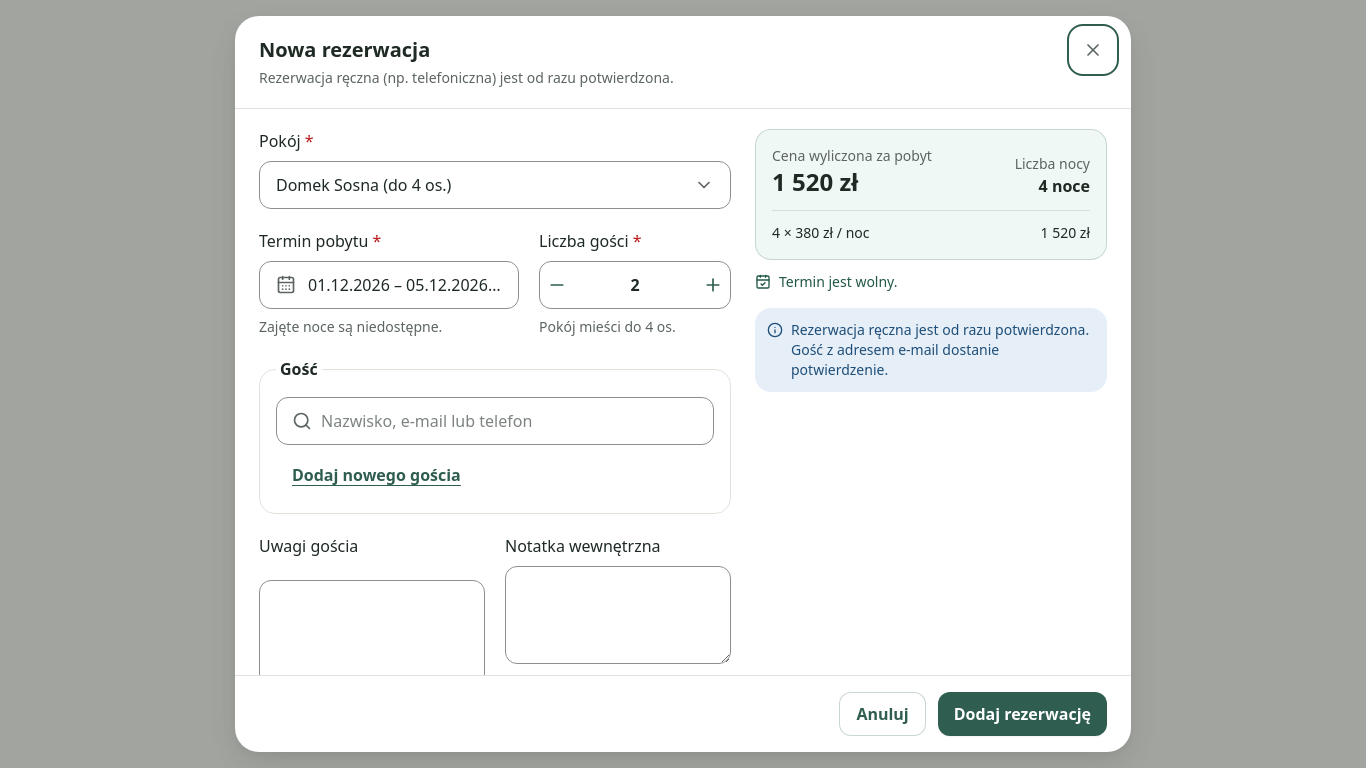
ManualReservationDialog (O5) › requires a guest and validates the new guest e-mail
expect the element "Cena wyliczona" is shown: met, box [755,129,1107,260]
Click the button "Dodaj rezerwację" at (1022, 714), box [938,692,1107,736]
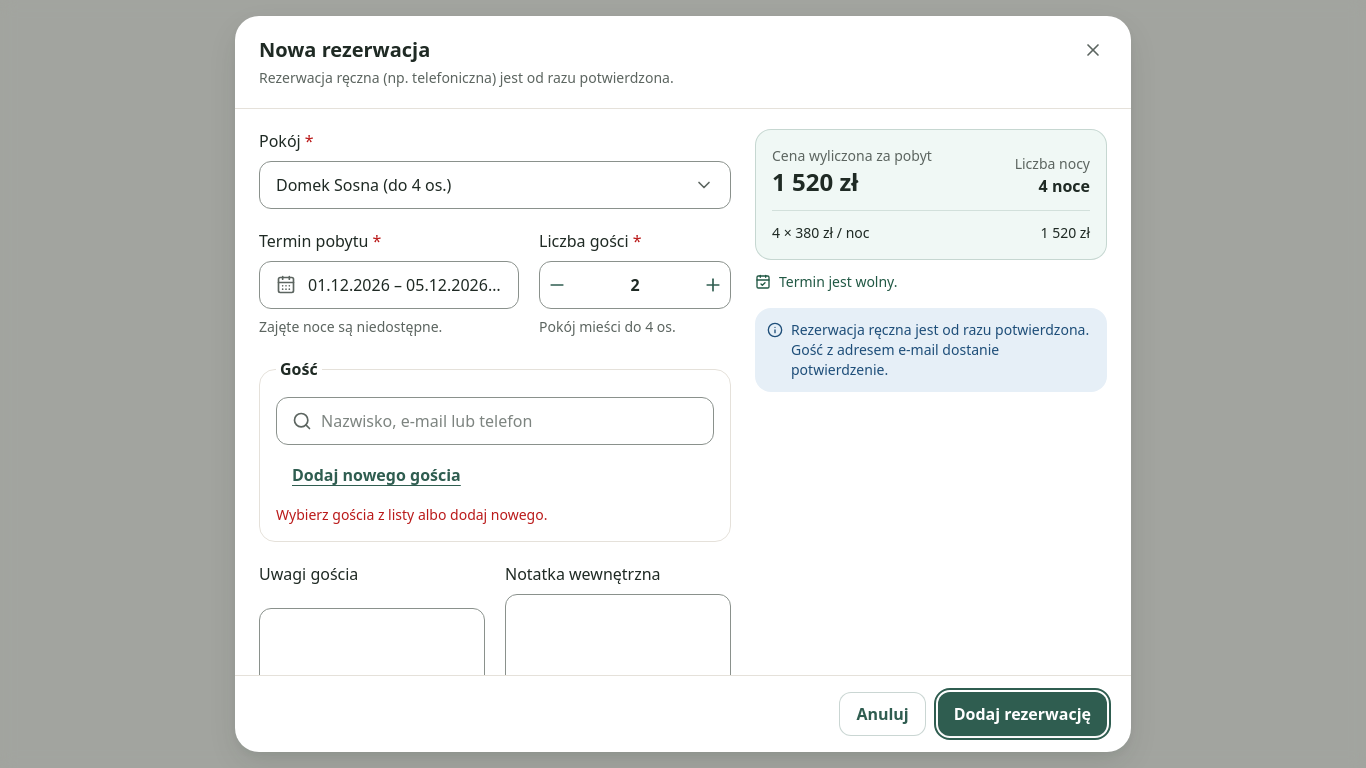
expect the text "Wybierz gościa z listy albo dodaj nowego." is shown: met, box [276,505,547,524]
Click the button "Dodaj nowego gościa" at (376, 475), box [276,453,477,497]
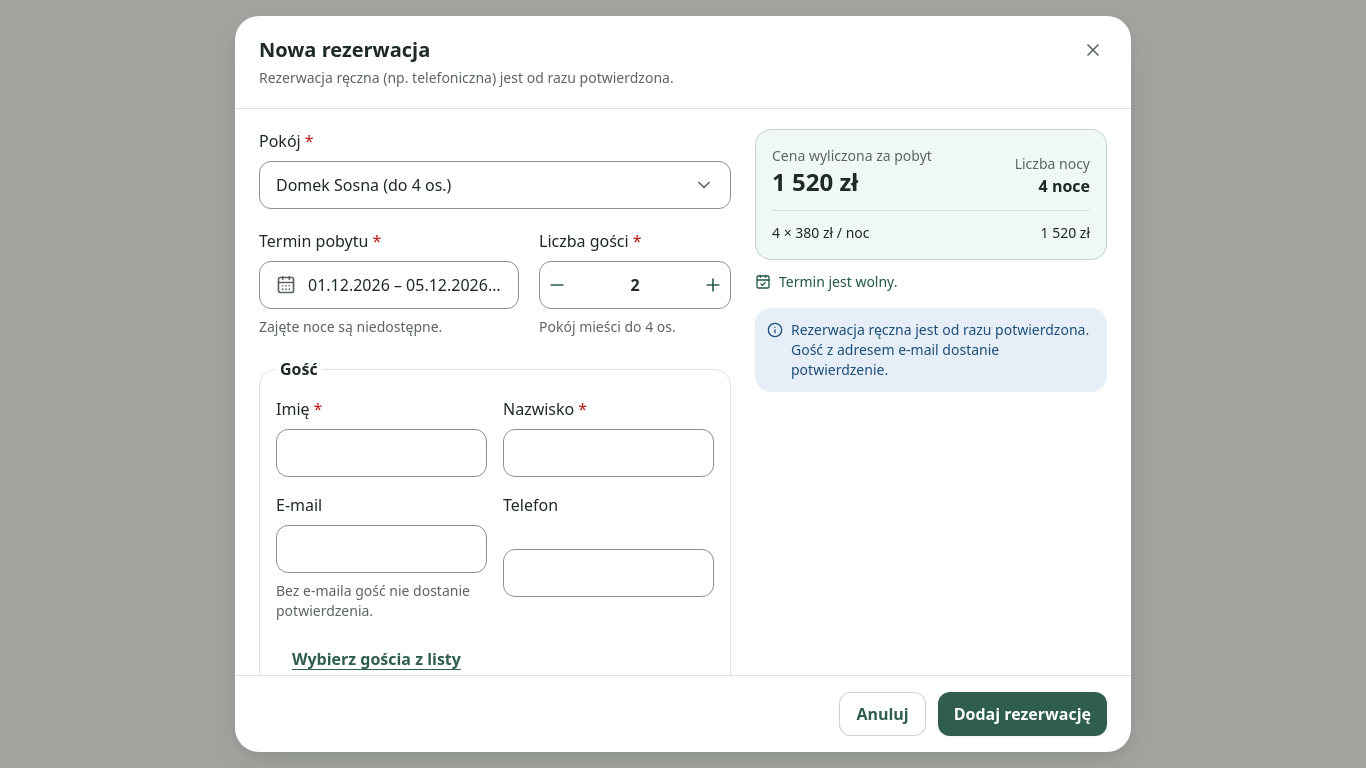
Type "nie-email" into the field labelled "E-mail" at (382, 549), box [276,525,487,573]
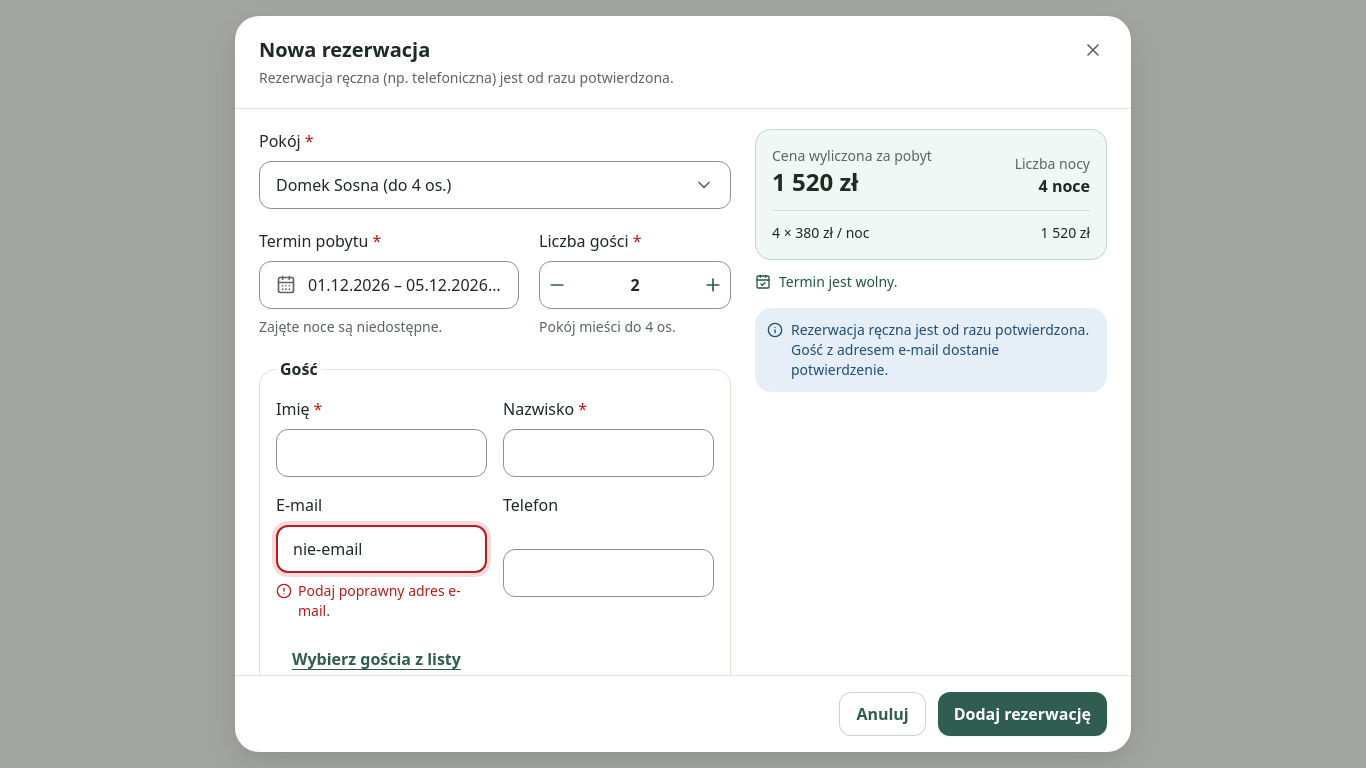
Click the button "Dodaj rezerwację" at (1022, 714), box [938,692,1107,736]
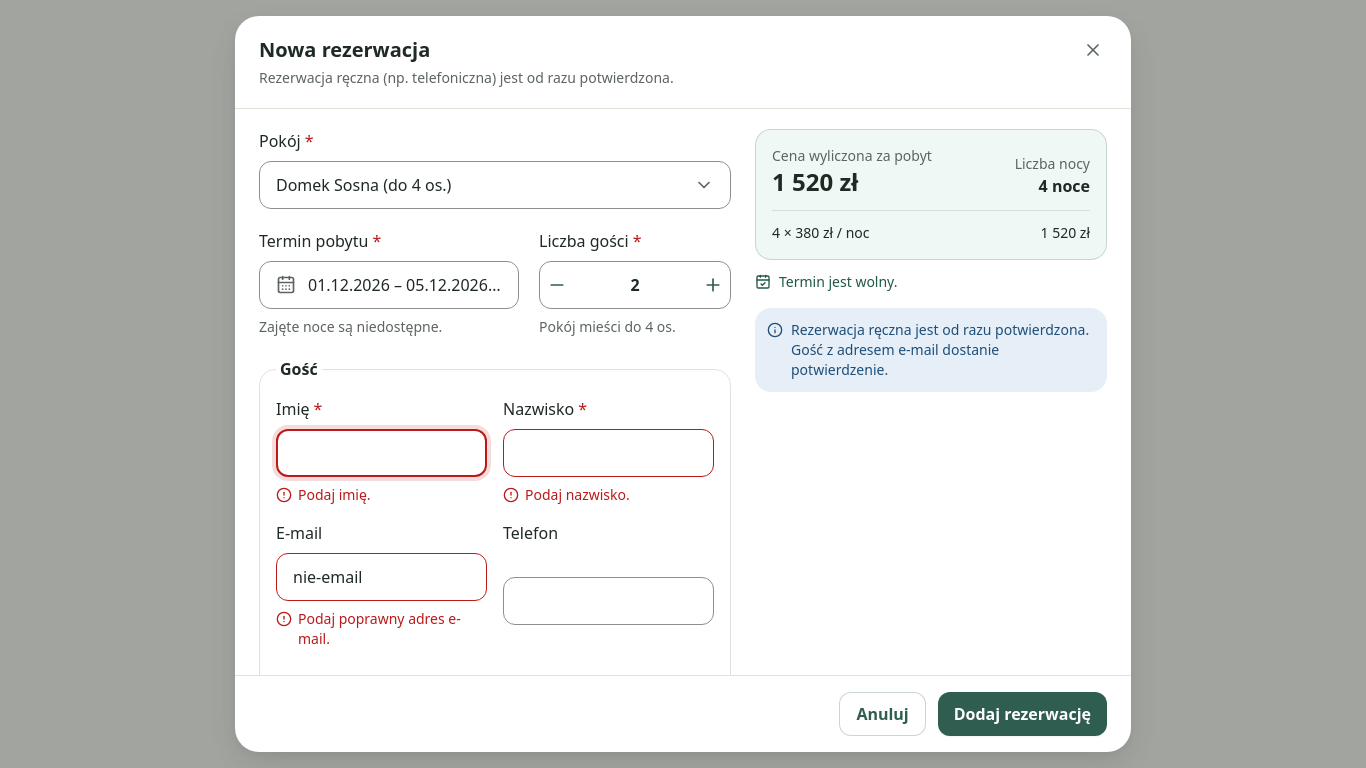
expect the text "Podaj poprawny adres e-mail." is shown: met, box [276,609,487,649]
expect the text "Podaj imię." is shown: met, box [276,485,371,504]
